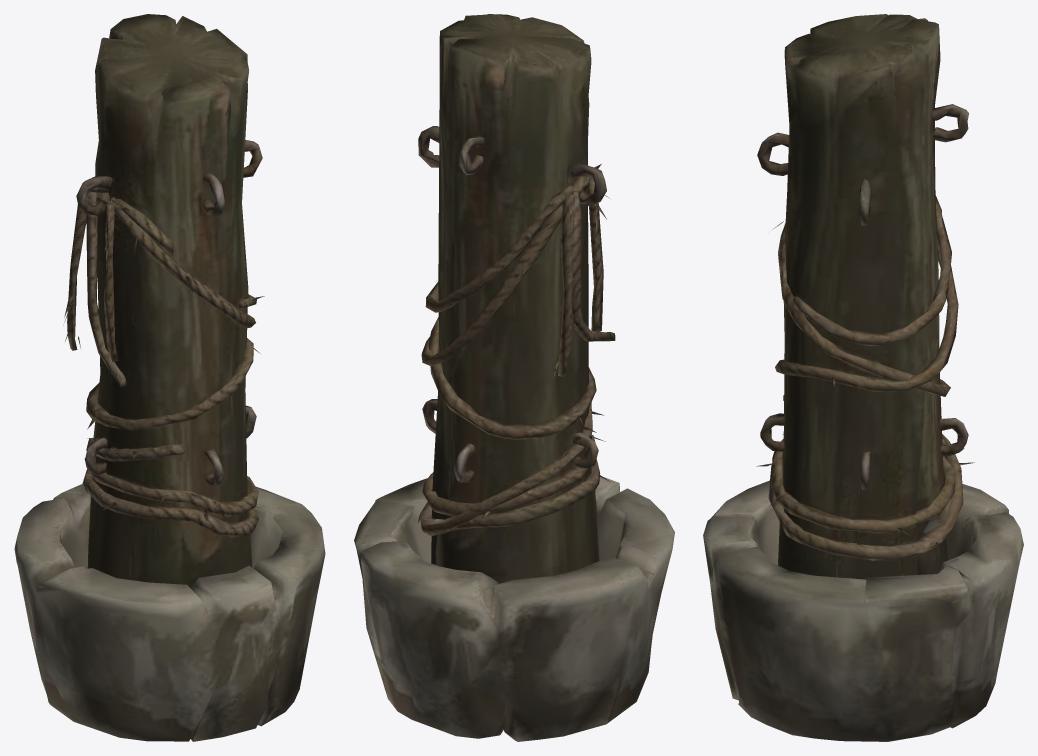
File: k-washpost.glb
3 renders of one model, left to right at view 1: azimuth 30°, elevation 25°; view 2: azimuth 150°, elevation 25°; view 3: azimuth 270°, elevation 25°, orthographic. The views are drawn at different scales.
Size of the model in its own units: 0.4146 by 0.9482 by 0.417.
1 material, 1 textured.
